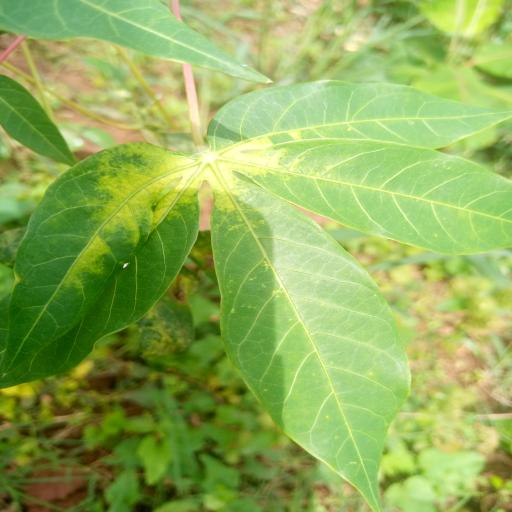Cassava_Mosaic: (0, 77, 512, 512)
